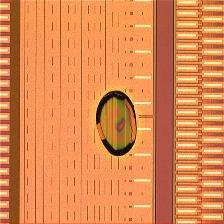COATING BAD: (82, 88, 154, 160)
